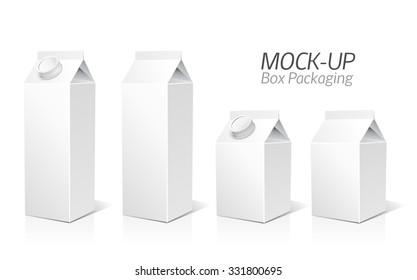carton: (113, 29, 202, 235), (15, 29, 105, 230), (306, 95, 404, 239), (212, 95, 297, 237)
